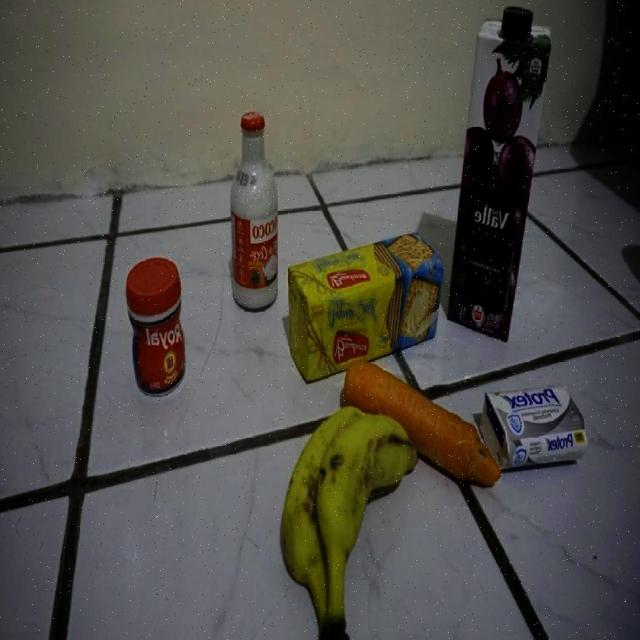Banana: (278, 405, 417, 640)
Carrot: (344, 359, 500, 484)
CoconutMilk: (231, 113, 277, 309)
Cracker: (286, 232, 441, 386)
Soap: (481, 388, 586, 473)
Yeast: (125, 257, 185, 398)
